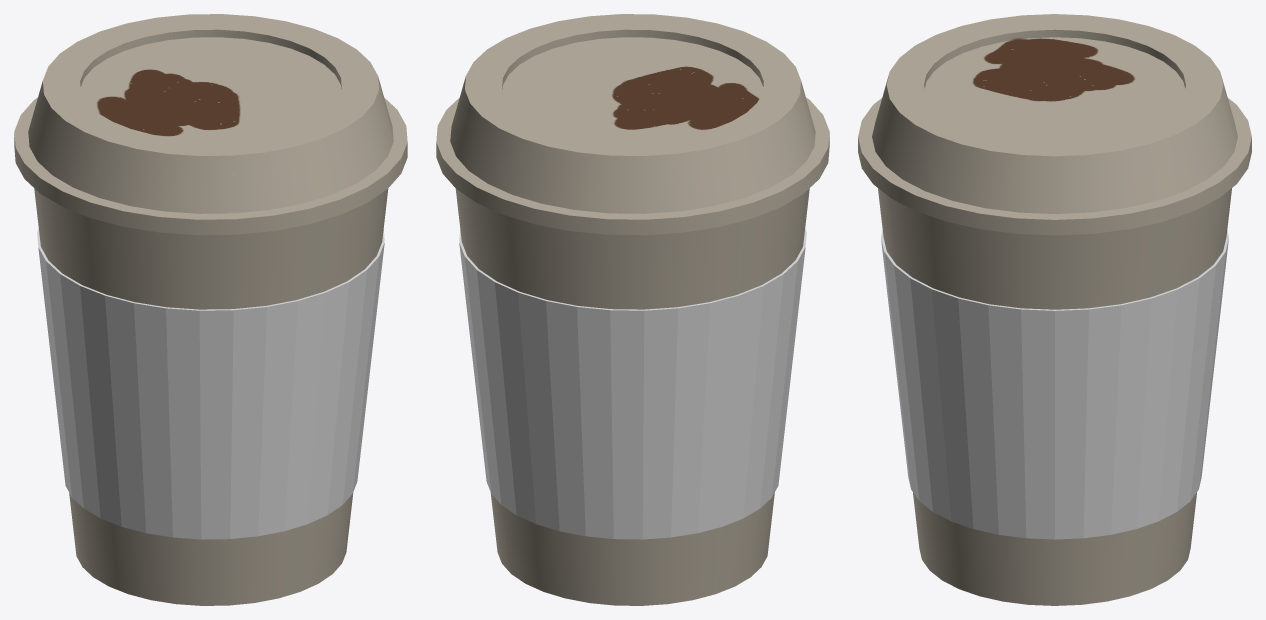
File: coffee_cup 1.fbx
The picture shows the model from 3 angles, left to right: view 1: azimuth 30°, elevation 25°; view 2: azimuth 150°, elevation 25°; view 3: azimuth 270°, elevation 25°; orthographic projection.
Visible parts, largest first — view 1: Circle, Cylinder; view 2: Circle, Cylinder; view 3: Circle, Cylinder.
Boxes of the visible parts, left/top/right/bottom form: Circle: left=14, top=14, right=407, bottom=605; Cylinder: left=37, top=229, right=384, bottom=539; Circle: left=436, top=14, right=829, bottom=605; Cylinder: left=459, top=229, right=806, bottom=539; Circle: left=858, top=14, right=1251, bottom=605; Cylinder: left=881, top=230, right=1228, bottom=539.
Size of the model in its own units: 290 by 377 by 290.
Materials: 1 (1 with a texture image).
